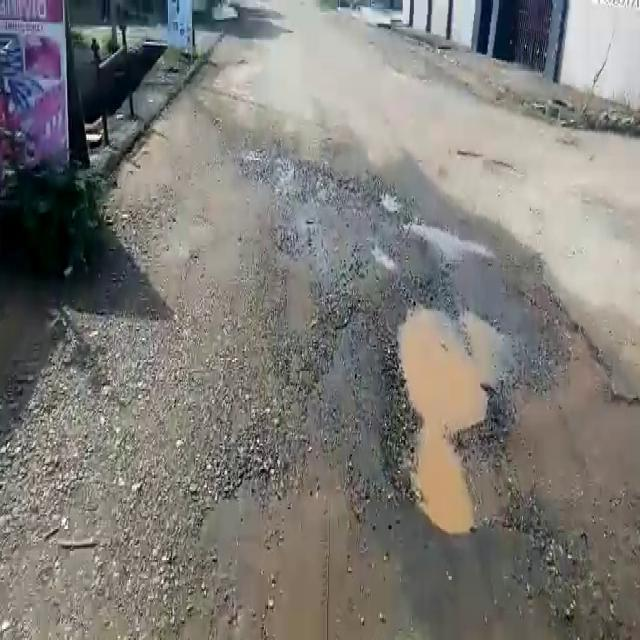pothole: (381, 285, 537, 529), (378, 189, 401, 213)
